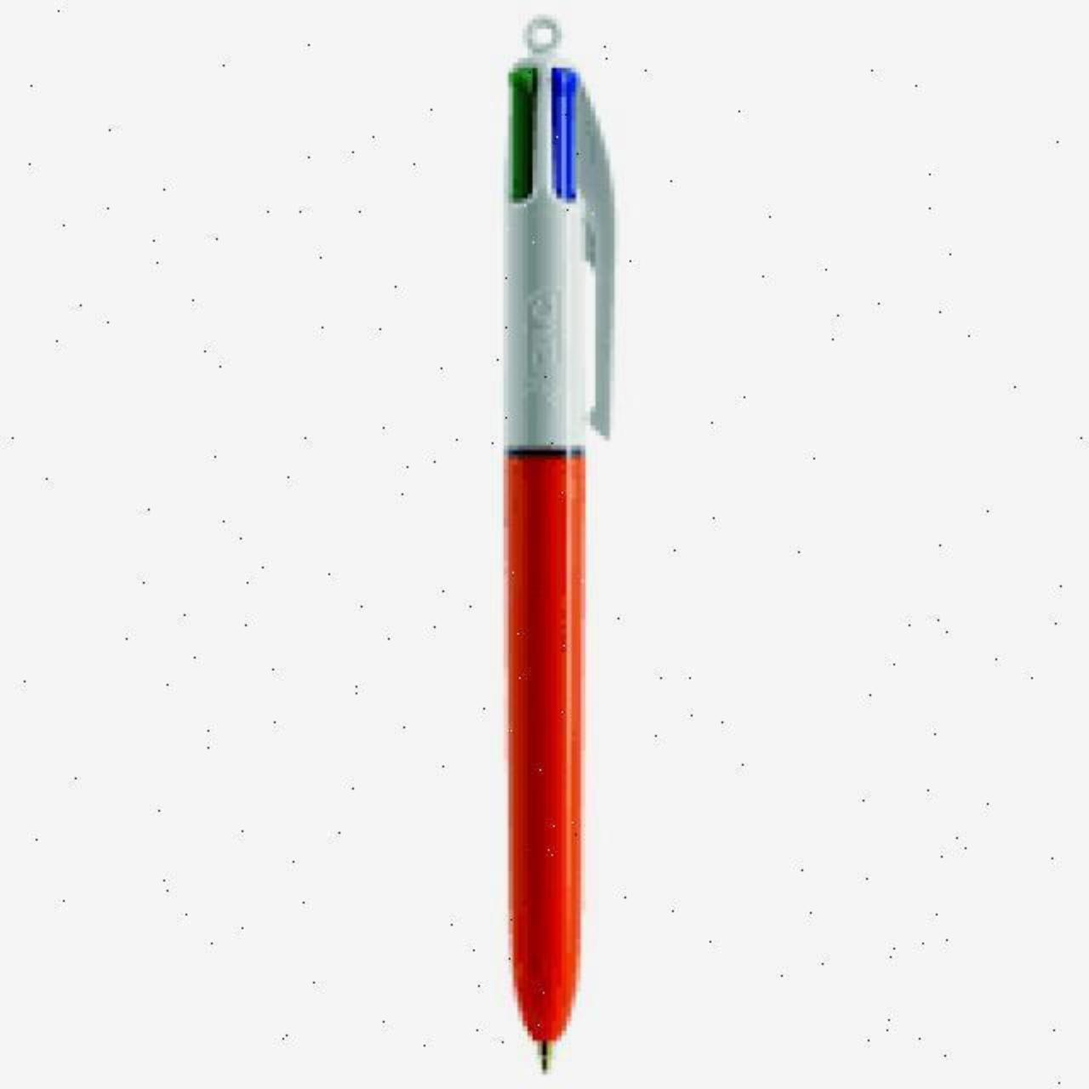pen: (505, 17, 616, 1057)
